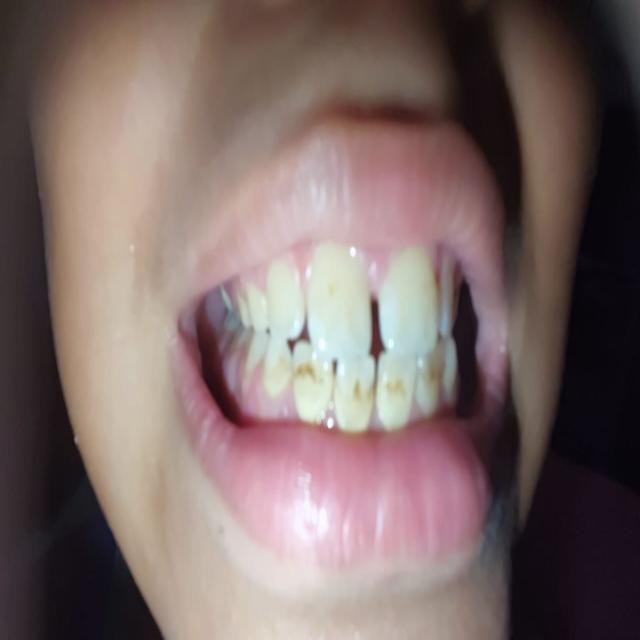tooth: (306, 256, 372, 348), (382, 264, 437, 354), (374, 353, 411, 423), (335, 354, 373, 421), (266, 259, 300, 332), (297, 349, 325, 417), (266, 341, 290, 400), (421, 356, 441, 413), (246, 289, 268, 332), (249, 340, 263, 392), (444, 278, 456, 334), (446, 350, 459, 401)
